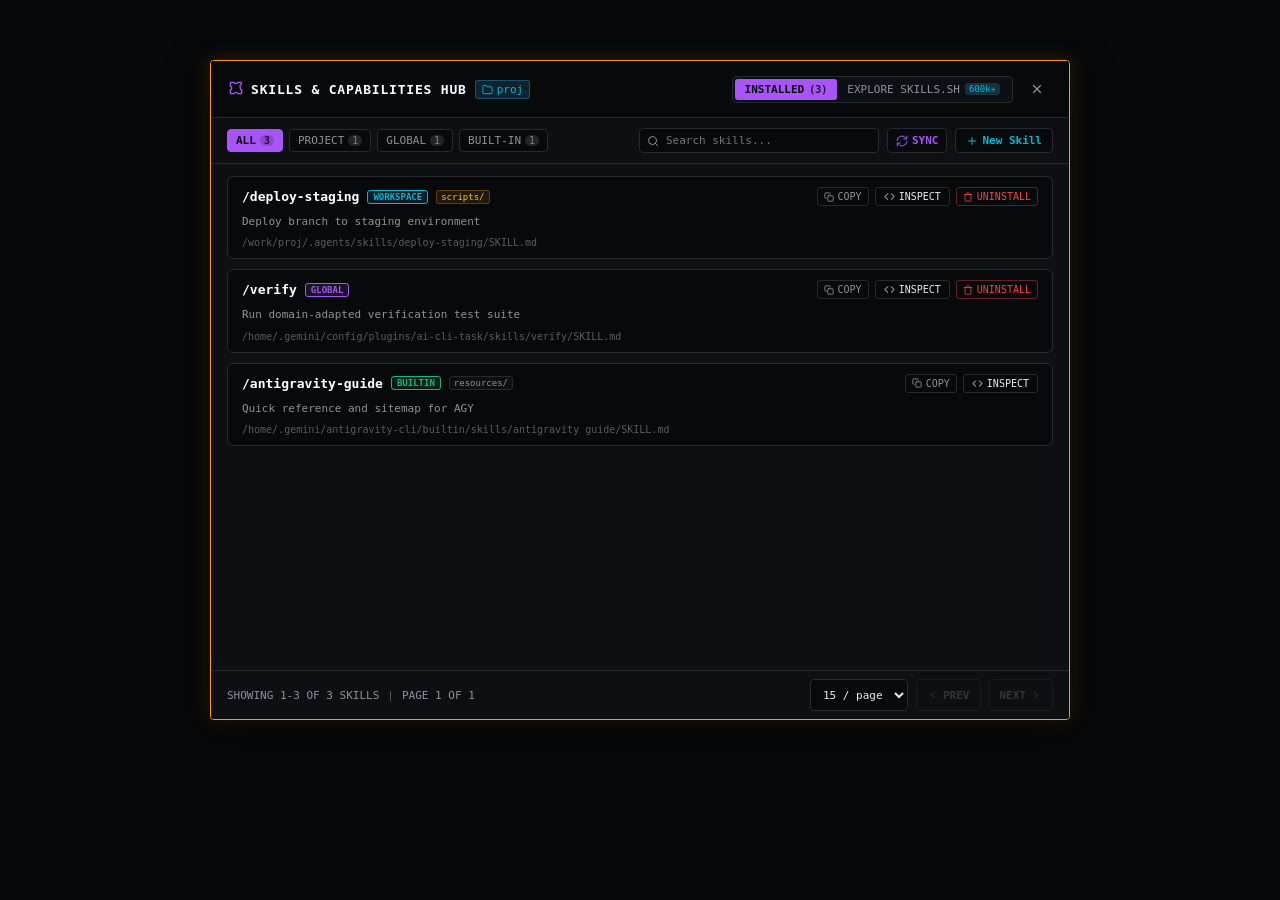
Test: SkillsManagementModal › filters skills by scope pills
This screenshot has width=1280, height=900.
Check: the text "/deploy-staging" is shown, box [242, 189, 359, 204]
Note: Click PROJECT scope filter
Click the button "PROJECT 1": (330, 140) [289, 129, 371, 152]
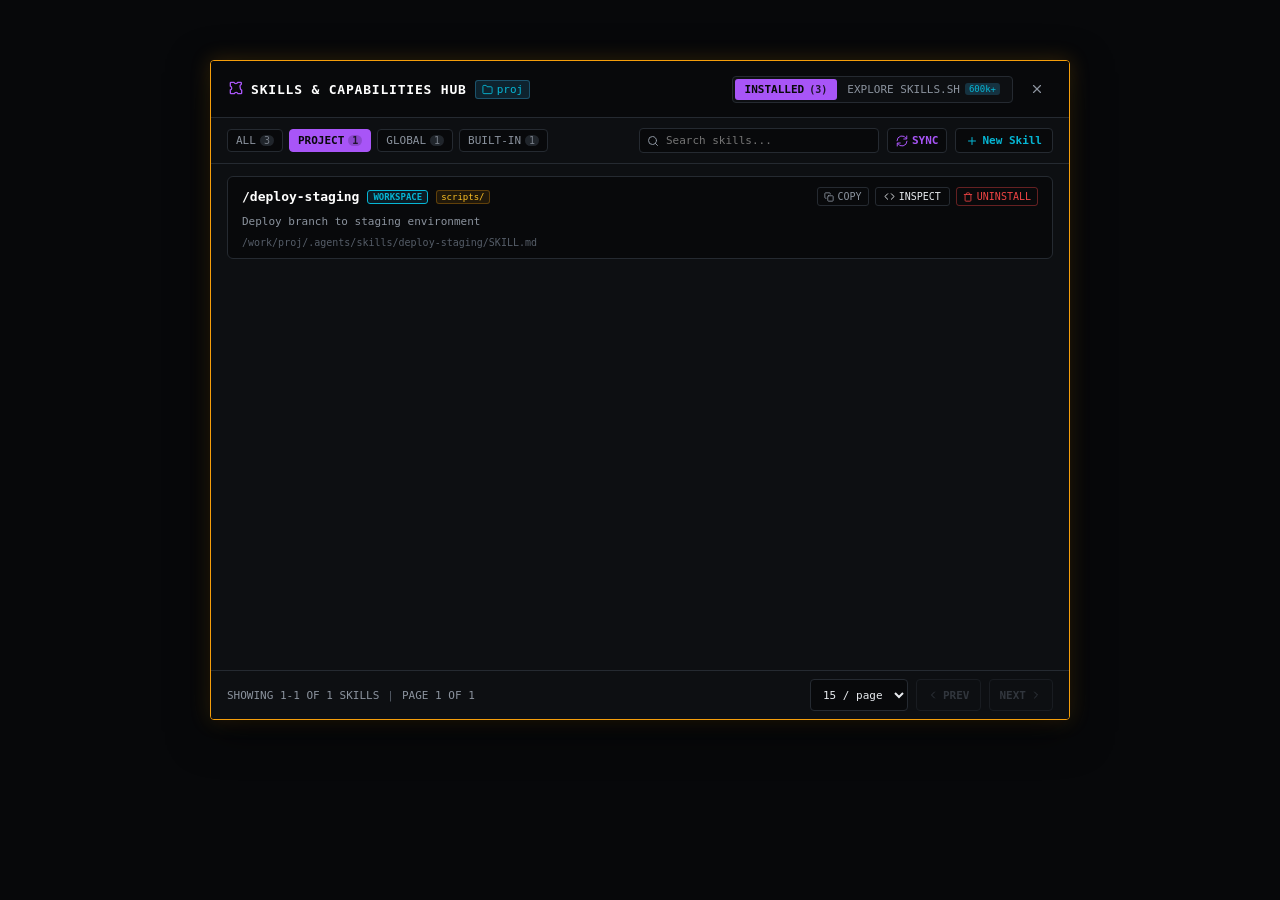
Check: the text "/deploy-staging" is shown, box [242, 189, 359, 204]
Check: the text "/verify" is gone
Check: the text "/antigravity-guide" is gone
Note: Click GLOBAL scope filter
Click the button "GLOBAL 1": (415, 140) [377, 129, 453, 152]
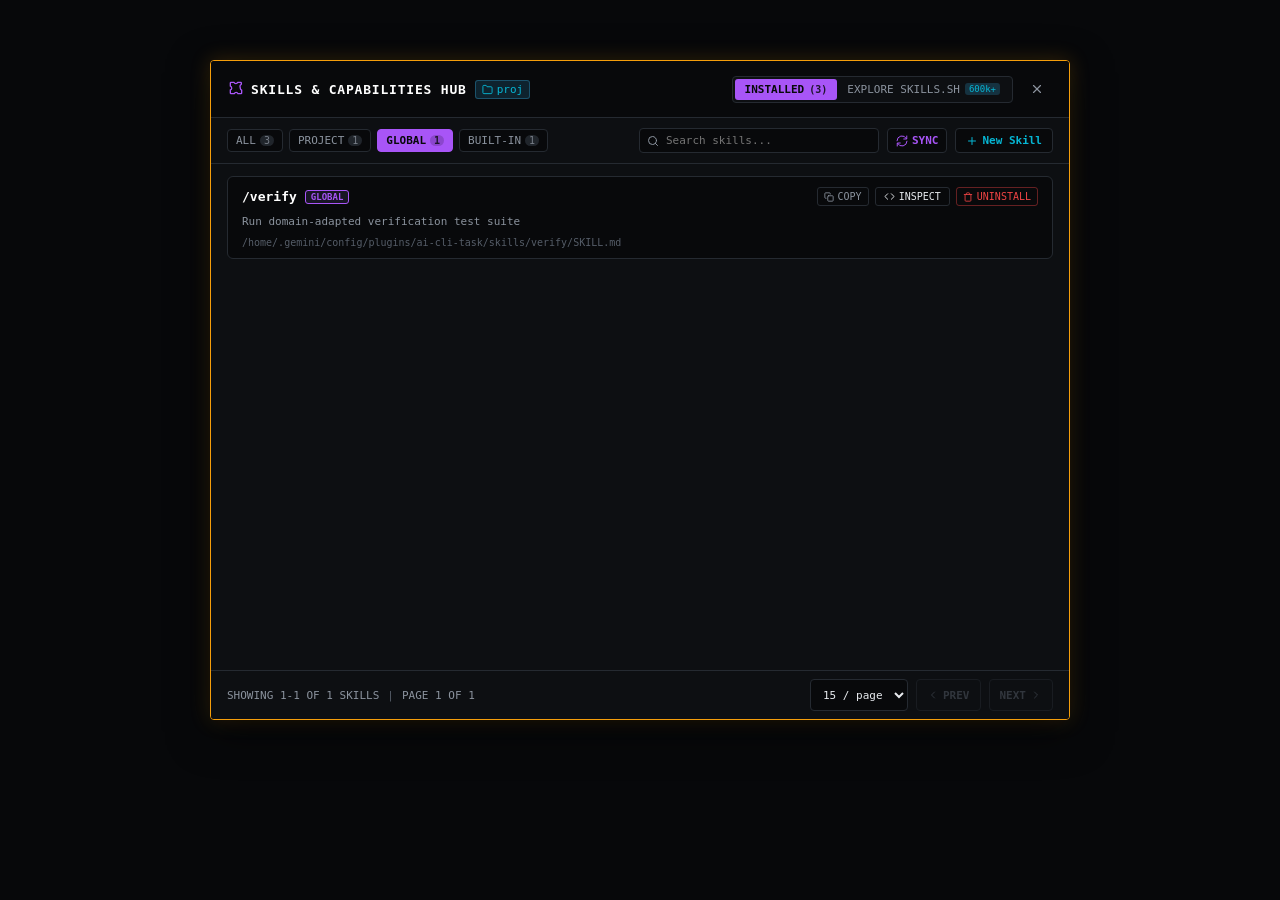
Check: the text "/antigravity-guide" is not shown
Check: the text "/deploy-staging" is gone
Check: the text "/verify" is shown, box [242, 189, 297, 204]
